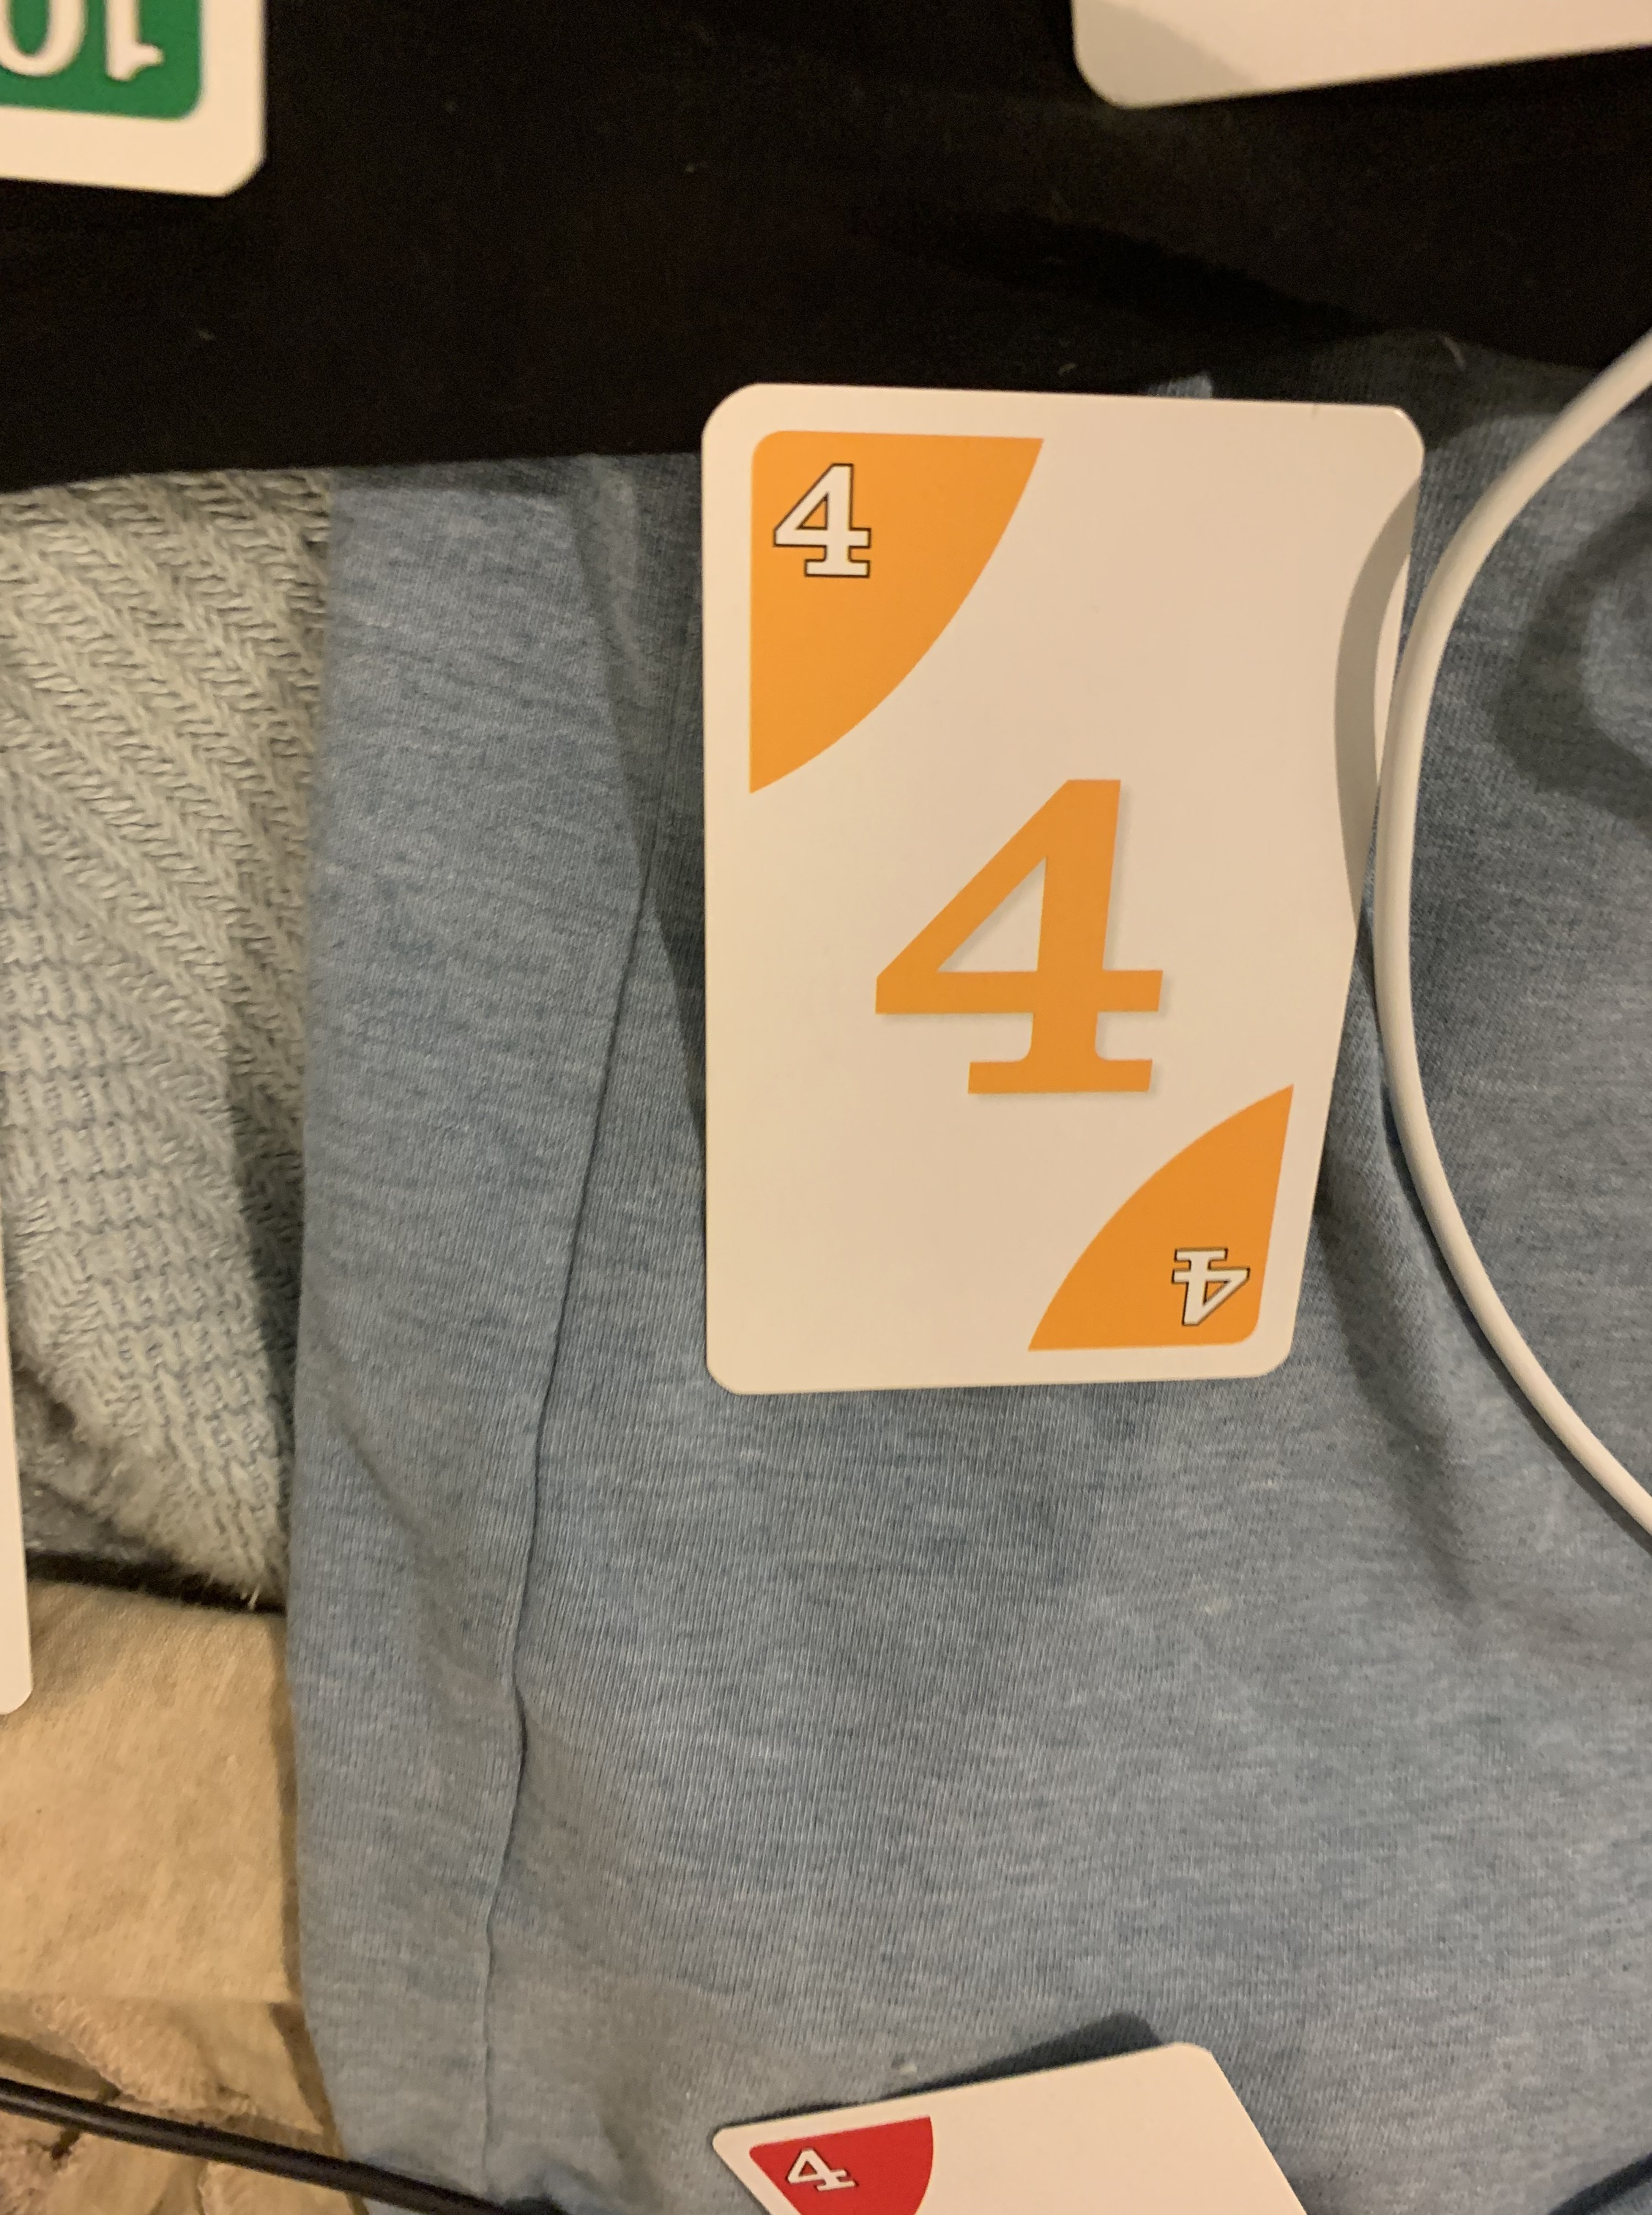four: (666, 356, 1470, 1427)
